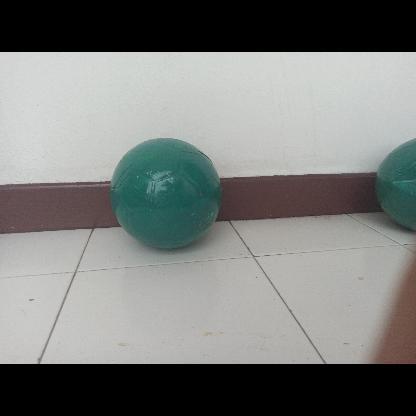green_ball: (111, 137, 225, 251)
